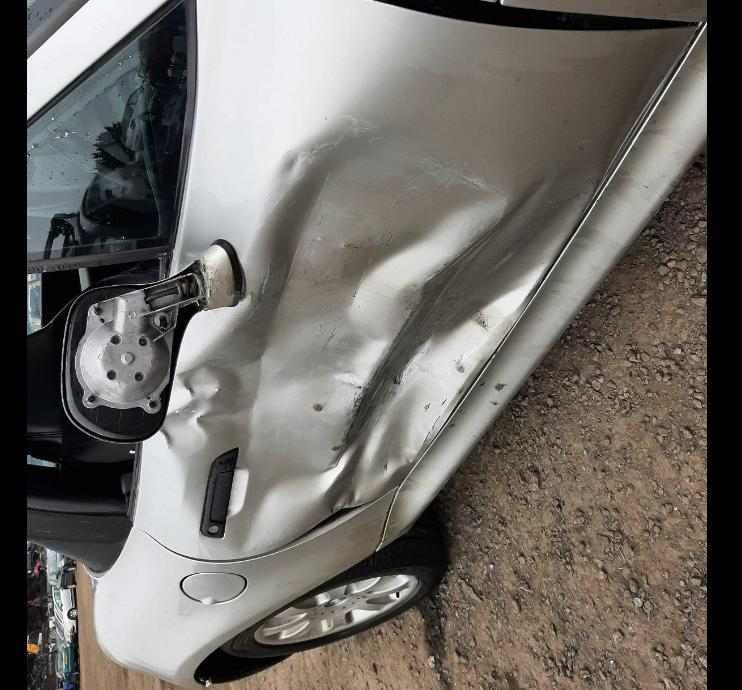Broken part: (63, 237, 242, 445), (337, 0, 706, 39), (236, 488, 395, 565)
Corrosion: (199, 251, 232, 308), (464, 300, 489, 330), (453, 351, 466, 374), (492, 379, 505, 392), (311, 402, 325, 412), (449, 421, 462, 427), (459, 406, 467, 415), (457, 386, 465, 394), (490, 397, 499, 404), (478, 381, 485, 387)
Cracked: (26, 0, 189, 261)
Dent: (158, 115, 599, 581)
Missing part: (26, 259, 158, 506)
Scratch: (319, 168, 577, 513), (247, 113, 385, 266), (317, 214, 399, 362), (226, 197, 300, 340), (271, 163, 334, 324), (383, 147, 504, 208), (413, 394, 450, 455), (303, 253, 352, 293), (379, 436, 398, 474), (329, 370, 362, 390), (334, 238, 360, 251)
